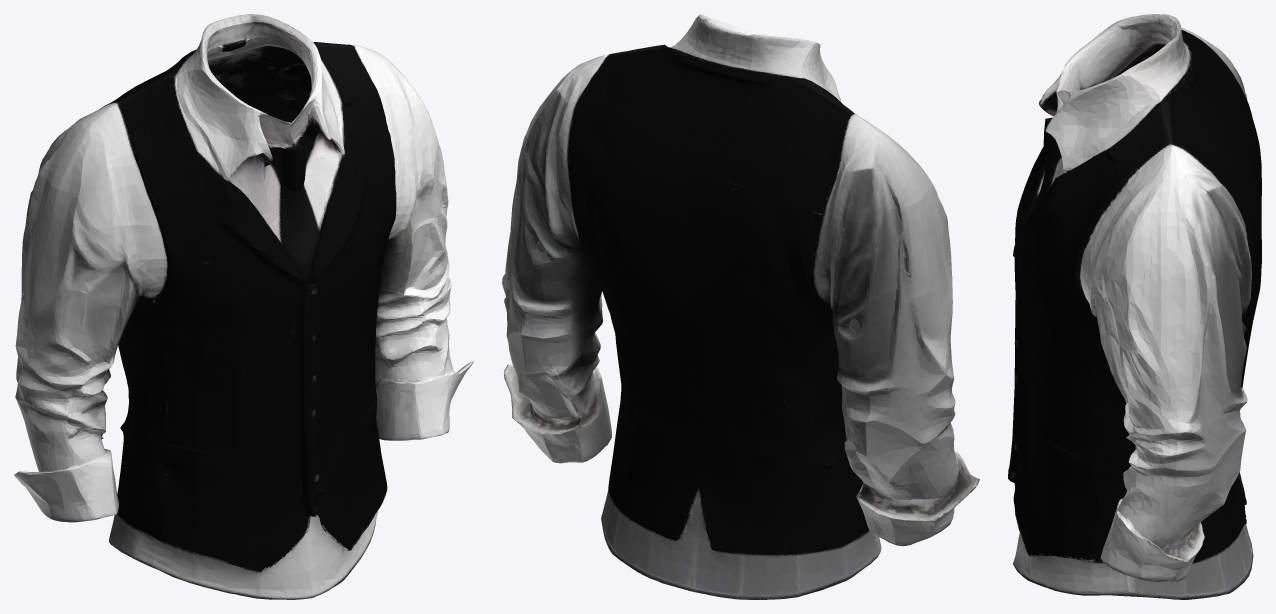
Rendered from sample.glb.
3 renders of one model, left to right at view 1: azimuth 30°, elevation 25°; view 2: azimuth 150°, elevation 25°; view 3: azimuth 270°, elevation 25°, orthographic. The views are drawn at different scales.
Visible parts, largest first — view 1: world; view 2: world; view 3: world.
Boxes of the visible parts, box(x1,y1,x2,y2) form: world: box(14, 14, 473, 599); world: box(502, 14, 979, 599); world: box(1008, 14, 1261, 599).
Bounding box in the file's own units: 0.9141 × 0.999 × 0.4293.
Materials: 1 (1 with a texture image).
